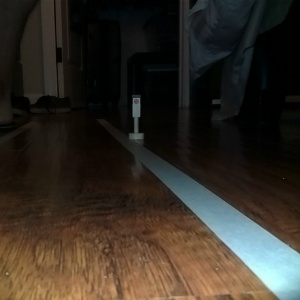traffic light red: (127, 93, 145, 142)
